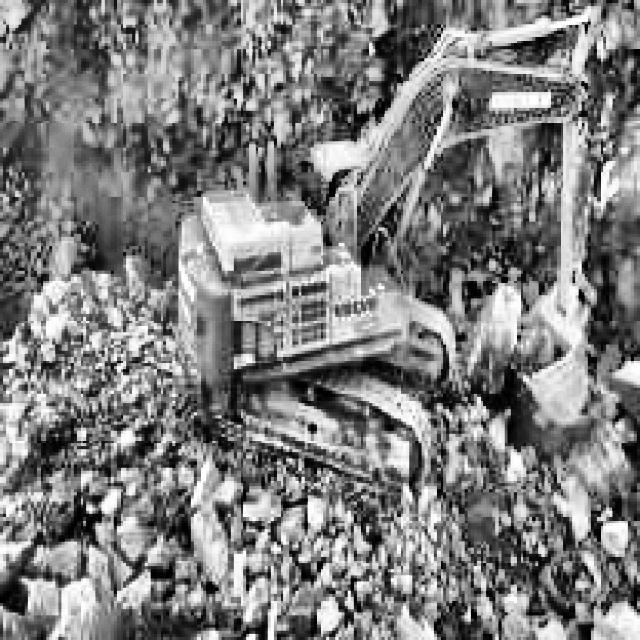excavator: (172, 0, 616, 505)
